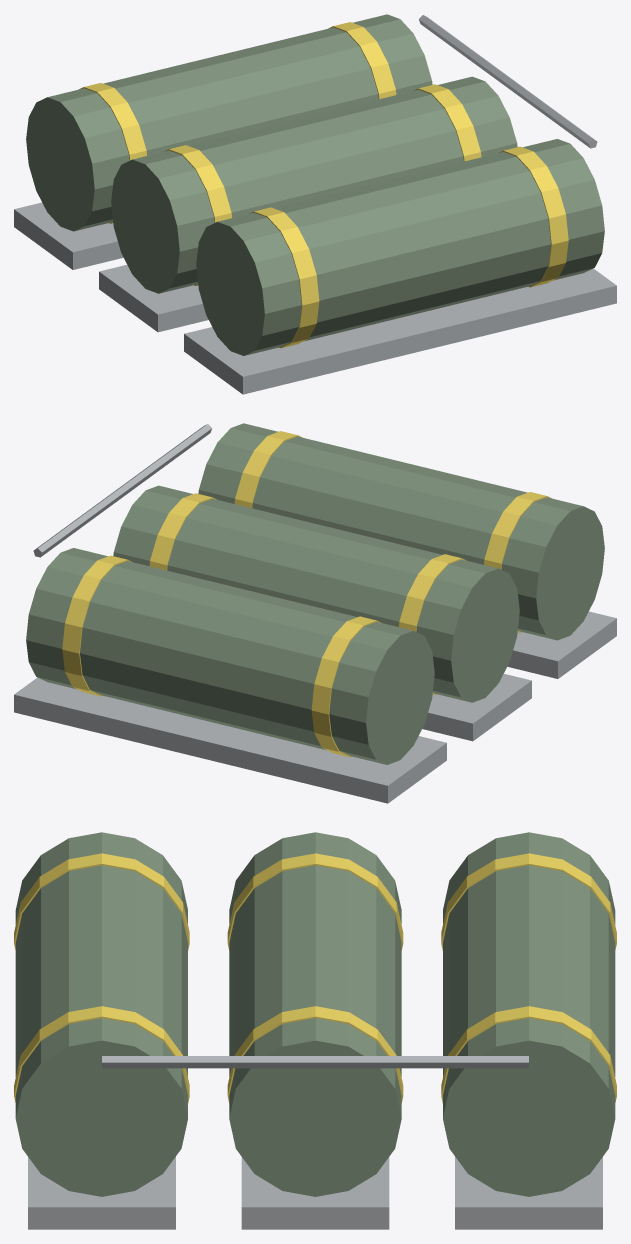
File: FuelTanks.glb
3 renders of one model, top to bottom at view 1: azimuth 30°, elevation 25°; view 2: azimuth 150°, elevation 25°; view 3: azimuth 270°, elevation 25°, orthographic. The views are drawn at different scales.
Parts seen in each view (by area): view 1: Fuel tank, Fuel tank.002, Fuel tank.001, Sledge, Sledge.001, Sledge.002, Hazard band.001, Hazard band, Limb.056, Hazard band.004, Hazard band.002, Hazard band.003 (+1 smaller); view 2: Fuel tank.002, Fuel tank, Fuel tank.001, Sledge.002, Sledge.001, Sledge, Hazard band.005, Hazard band.004, Limb.056, Hazard band, Hazard band.002, Hazard band.003 (+1 smaller); view 3: Fuel tank, Fuel tank.002, Fuel tank.001, Sledge.001, Sledge, Sledge.002, Limb.056, Hazard band.002, Hazard band, Hazard band.004, Hazard band.001, Hazard band.005 (+1 smaller).
Part boxes in pixels (left/top/right/bottom): Fuel tank: left=196, top=139, right=604, bottom=355; Fuel tank.002: left=26, top=14, right=432, bottom=231; Fuel tank.001: left=111, top=76, right=517, bottom=293; Sledge: left=184, top=268, right=616, bottom=394; Sledge.001: left=99, top=265, right=208, bottom=332; Sledge.002: left=14, top=202, right=123, bottom=269; Hazard band.001: left=498, top=146, right=568, bottom=287; Hazard band: left=249, top=207, right=319, bottom=348; Limb.056: left=419, top=15, right=597, bottom=148; Hazard band.004: left=79, top=83, right=146, bottom=223; Hazard band.002: left=164, top=145, right=231, bottom=285; Hazard band.003: left=413, top=84, right=481, bottom=161; Fuel tank.002: left=26, top=548, right=434, bottom=764; Fuel tank: left=198, top=423, right=604, bottom=640; Fuel tank.001: left=113, top=485, right=519, bottom=702; Sledge.002: left=14, top=677, right=446, bottom=803; Sledge.001: left=422, top=674, right=531, bottom=741; Sledge: left=507, top=611, right=616, bottom=678; Hazard band.005: left=62, top=555, right=132, bottom=696; Hazard band.004: left=311, top=616, right=381, bottom=757; Limb.056: left=33, top=424, right=211, bottom=557; Hazard band: left=484, top=492, right=551, bottom=632; Hazard band.002: left=399, top=554, right=466, bottom=694; Hazard band.003: left=149, top=493, right=217, bottom=570; Fuel tank: left=15, top=832, right=187, bottom=1196; Fuel tank.002: left=443, top=832, right=615, bottom=1196; Fuel tank.001: left=229, top=832, right=401, bottom=1196; Sledge.001: left=241, top=1157, right=389, bottom=1229; Sledge: left=28, top=1157, right=175, bottom=1229; Sledge.002: left=455, top=1157, right=602, bottom=1229; Limb.056: left=102, top=1056, right=528, bottom=1068; Hazard band.002: left=227, top=853, right=403, bottom=950; Hazard band: left=14, top=853, right=189, bottom=950; Hazard band.004: left=441, top=853, right=616, bottom=950; Hazard band.001: left=14, top=1006, right=189, bottom=1103; Hazard band.005: left=441, top=1006, right=616, bottom=1103.
Size of the model in its own units: 6.78 by 2.42 by 7.34.
